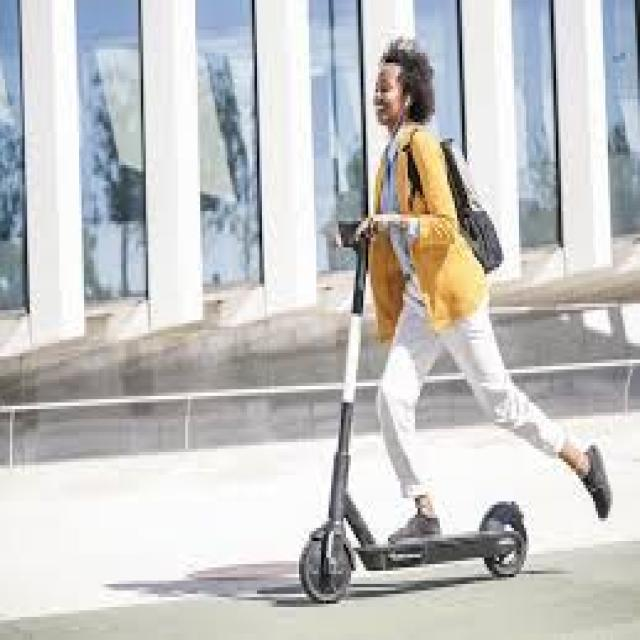non-helmet: (291, 21, 615, 613)
